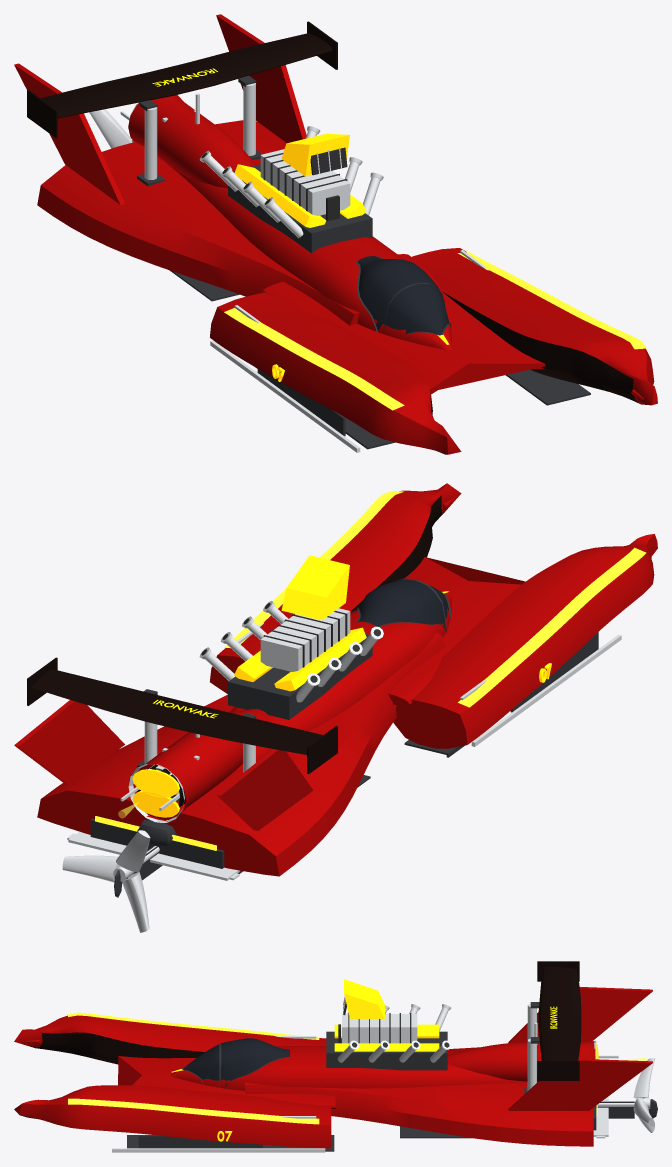
Rendered from ironwake.glb.
The picture shows the model from 3 angles, top to bottom: view 1: azimuth 30°, elevation 25°; view 2: azimuth 150°, elevation 25°; view 3: azimuth 270°, elevation 25°; orthographic projection. The views are drawn at different scales.
Visible parts, largest first — view 1: Afterplane, Sponson_L, Sponson_R, Cowling, TunnelDeck, RearWing, BoostPod, CanopyGlass, TailFin_R, TailFin_L, Blower, EngineBlock (+14 smaller); view 2: Afterplane, Sponson_L, Sponson_R, RearWing, Cowling, TunnelDeck, TailFin_R, TailFin_L, BoostPod, CanopyGlass, EngineBlock, Blower (+15 smaller); view 3: Sponson_R, Afterplane, Sponson_L, Cowling, TailFin_R, RearWing, TunnelDeck, CanopyGlass, BoostPod, TailFin_L, EngineBlock, Blower (+16 smaller).
Boxes of the visible parts, <box> form: Afterplane: <box>37,120,445,325</box>; Sponson_L: <box>210,292,461,454</box>; Sponson_R: <box>412,248,657,405</box>; Cowling: <box>166,163,451,349</box>; TunnelDeck: <box>261,254,545,394</box>; RearWing: <box>41,33,332,118</box>; BoostPod: <box>128,95,255,188</box>; CanopyGlass: <box>357,256,449,335</box>; TailFin_R: <box>216,14,306,143</box>; TailFin_L: <box>14,63,124,204</box>; Blower: <box>260,149,350,215</box>; EngineBlock: <box>228,164,372,253</box>; Afterplane: <box>37,633,445,876</box>; Sponson_L: <box>393,534,657,748</box>; Sponson_R: <box>210,483,461,693</box>; RearWing: <box>31,669,322,754</box>; Cowling: <box>210,593,451,790</box>; TunnelDeck: <box>388,557,525,706</box>; TailFin_R: <box>14,700,124,785</box>; TailFin_L: <box>216,749,313,830</box>; BoostPod: <box>128,708,269,821</box>; CanopyGlass: <box>358,579,449,628</box>; EngineBlock: <box>228,634,372,719</box>; Blower: <box>260,608,350,671</box>; Sponson_R: <box>14,1085,331,1148</box>; Afterplane: <box>245,1047,593,1146</box>; Sponson_L: <box>14,1015,326,1064</box>; Cowling: <box>170,1046,537,1090</box>; TailFin_R: <box>508,1058,652,1110</box>; RearWing: <box>538,966,581,1060</box>; TunnelDeck: <box>118,1056,335,1108</box>; CanopyGlass: <box>182,1038,289,1086</box>; BoostPod: <box>447,1041,595,1081</box>; TailFin_L: <box>508,987,652,1043</box>; EngineBlock: <box>326,1031,447,1070</box>; Blower: <box>342,1014,417,1043</box>.
Size of the model in its own units: 2.64 by 1.9 by 7.17.
